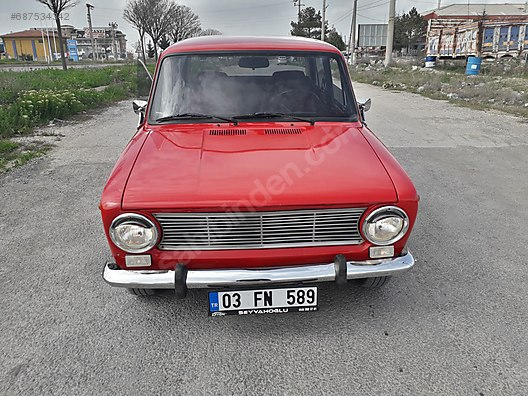murat: (102, 33, 420, 312)
